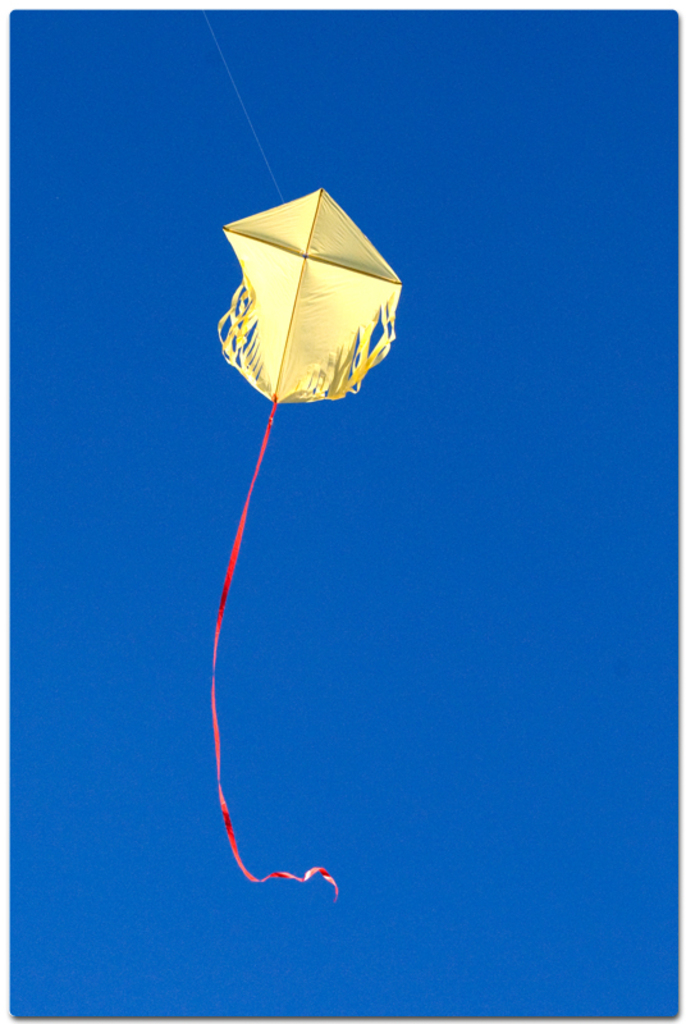kite: (192, 175, 412, 936)
